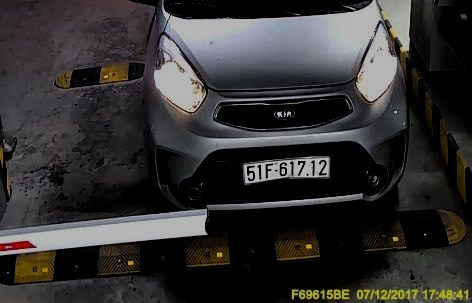plate: (240, 151, 334, 186)
